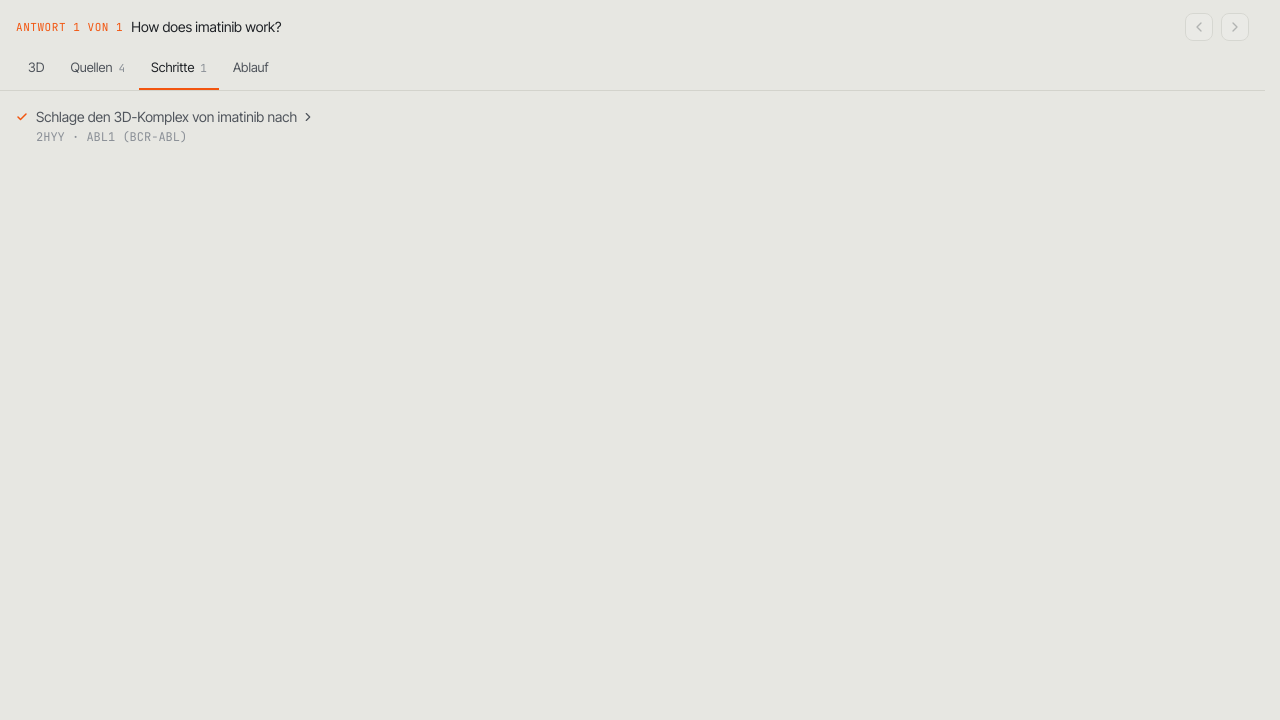
Test: EvidencePanel › lists a saved answer's steps in German for a German reader
The width and height of the screenshot is (1280, 720).
Click the button "Schlage den 3D-Komplex von imatinib nach": (166, 126) x1=16 y1=106 x2=315 y2=144
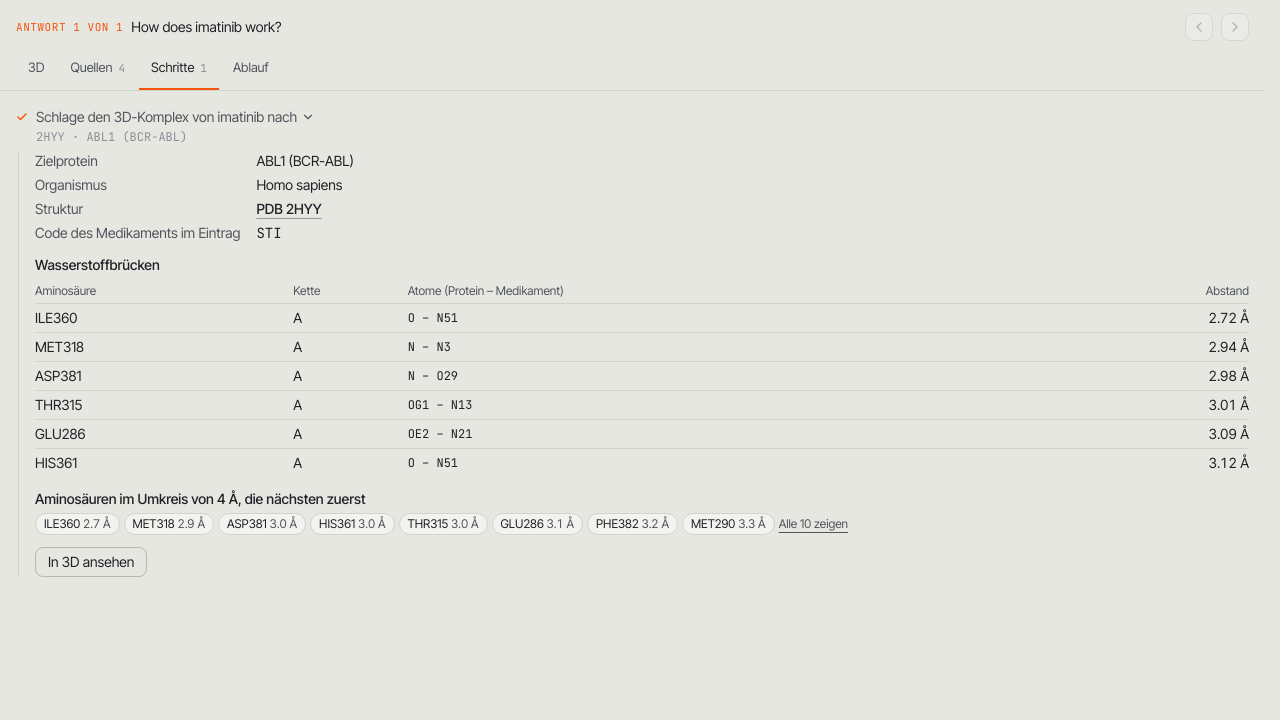
Expected: the button "In 3D ansehen" is shown, x1=35 y1=546 x2=147 y2=576
